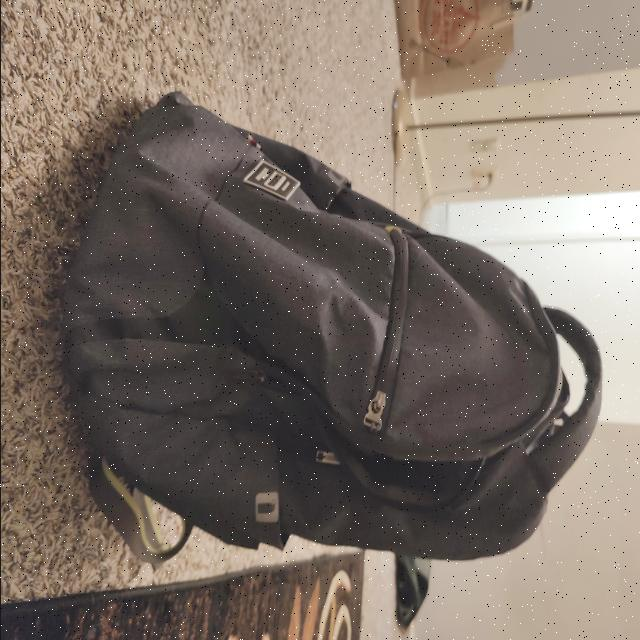bag: (96, 119, 592, 529)
